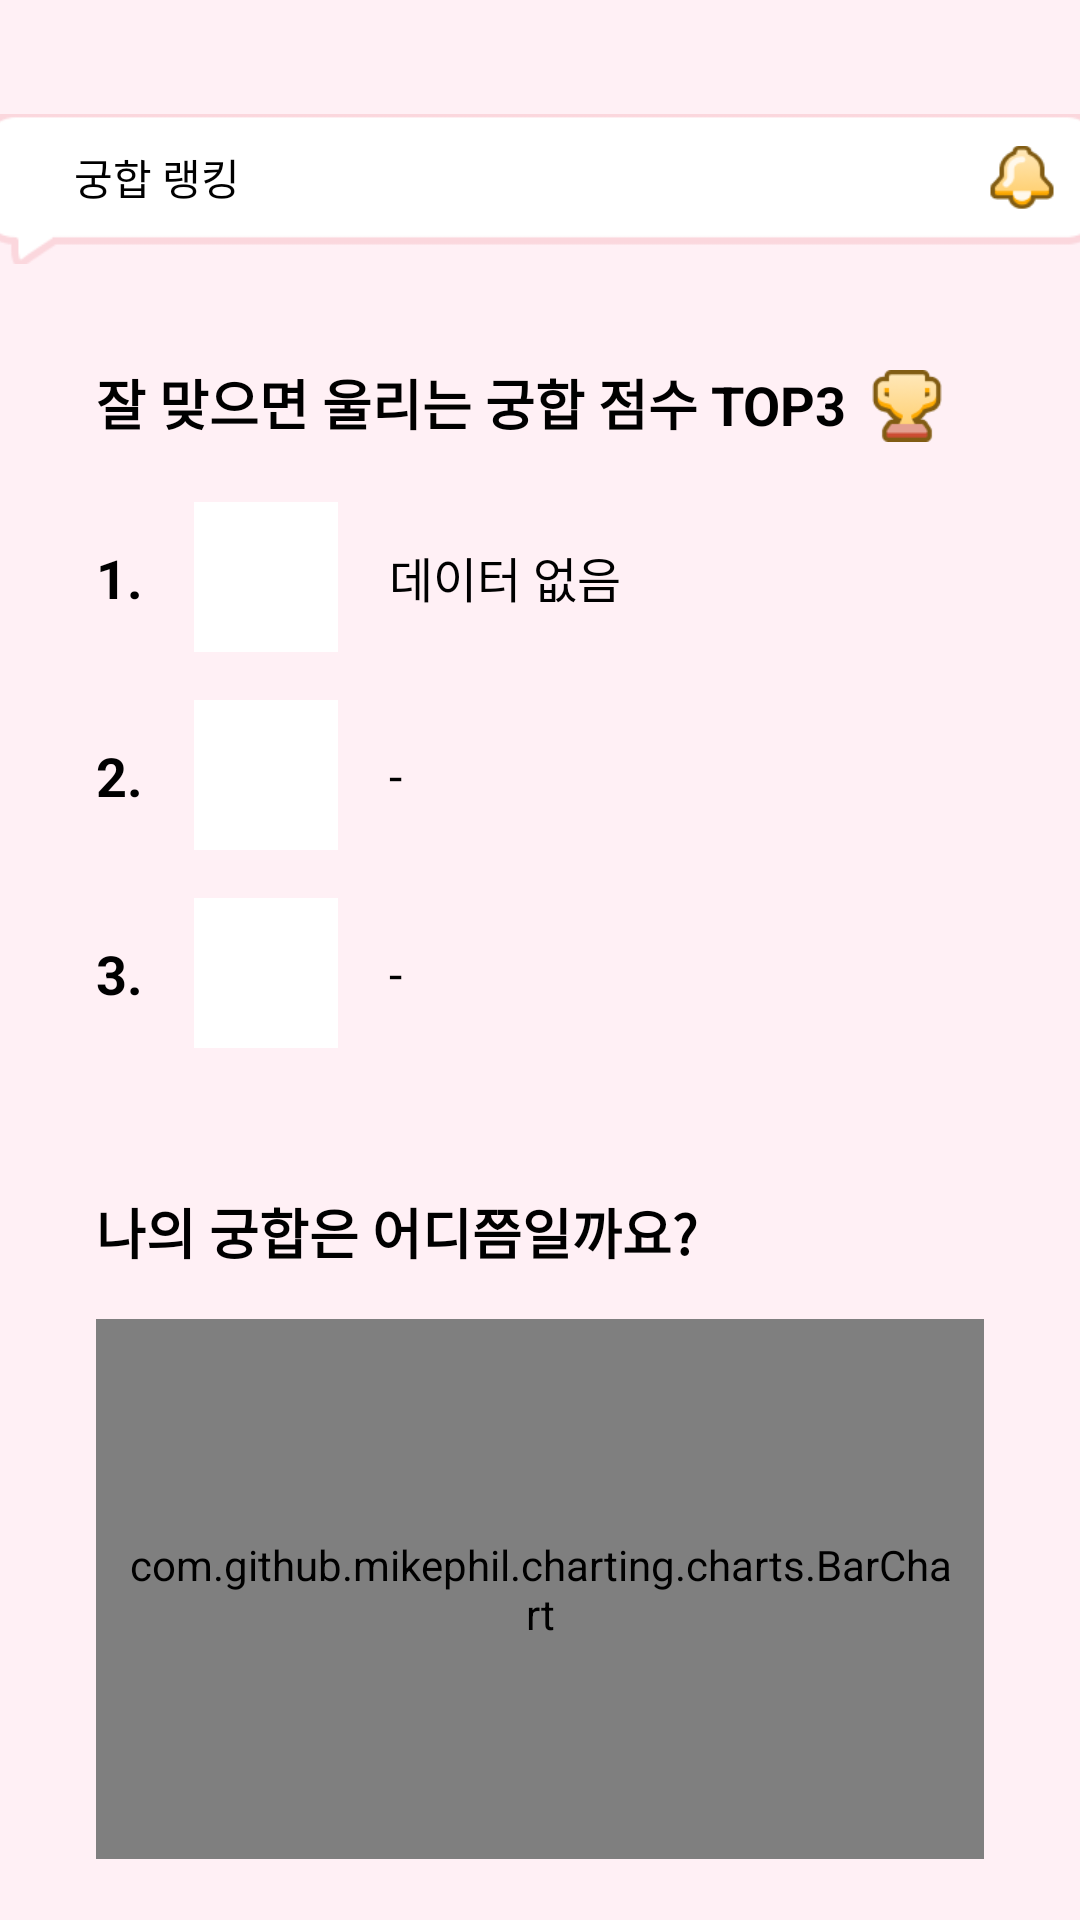

Icons on this 1080*1920 Android screen, each with the point to tap as [x,y]:
알림 아이콘: [1022,177]
트로피 아이콘: [907,406]
